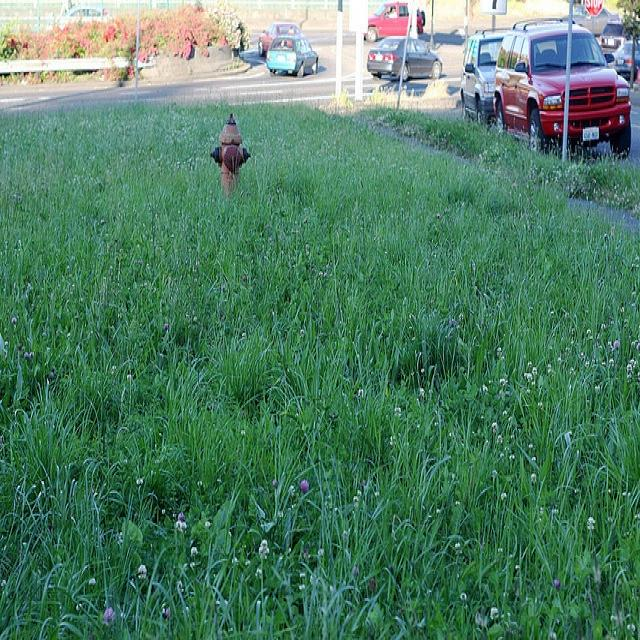car: (489, 9, 630, 156), (459, 27, 503, 120), (365, 33, 441, 78), (265, 33, 318, 75), (364, 1, 423, 38), (256, 19, 302, 54), (609, 36, 638, 78)
fire_hydrant: (208, 111, 248, 192)
